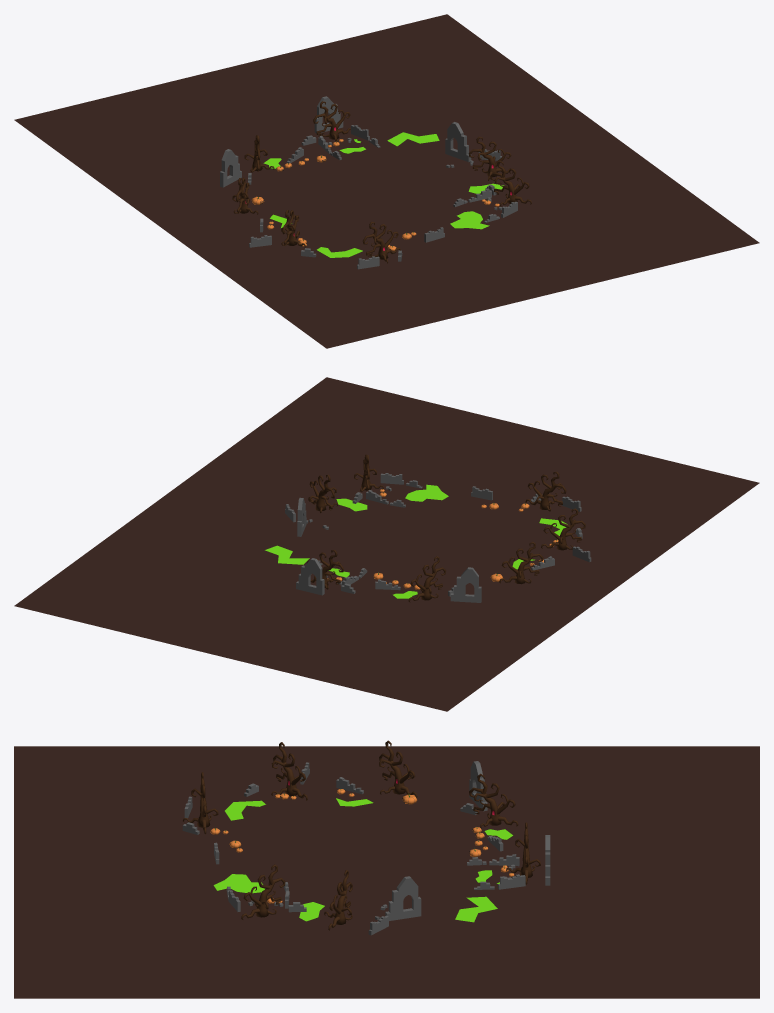
The model's file is map3.fbx.
3 renders of one model, top to bottom at view 1: azimuth 30°, elevation 25°; view 2: azimuth 150°, elevation 25°; view 3: azimuth 270°, elevation 25°, orthographic. The views are drawn at different scales.
Visible parts, largest first — view 1: Plane.006, Cylinder.024, Cube.518, Cylinder.022, Cylinder.020, Cylinder.023, Cube.510; view 2: Plane.006, Cube.510, Cube.504, Cylinder.023, Cylinder.021, Cylinder.025, Cylinder.013, Cylinder.022; view 3: Plane.006, Cube.518, Cylinder.013, Cylinder.021, Cylinder.024, Cylinder.025, Cylinder.022, Cylinder.023, Cylinder.020, Cube.510.
Part boxes in pixels (x1,y1,x2,y2): Plane.006: (14,14,759,348); Cylinder.024: (490,160,531,206); Cube.518: (445,122,471,162); Cylinder.022: (468,136,513,181); Cylinder.020: (313,101,350,141); Cylinder.023: (362,221,400,263); Cube.510: (220,149,241,187); Plane.006: (14,377,759,711); Cube.510: (450,567,481,602); Cube.504: (296,558,324,595); Cylinder.023: (525,471,566,511); Cylinder.021: (499,542,543,584); Cylinder.025: (541,508,585,550); Cylinder.013: (408,556,445,602); Cylinder.022: (308,474,337,513); Plane.006: (14,746,759,998); Cube.518: (385,876,421,920); Cylinder.013: (469,773,518,828); Cylinder.021: (379,740,417,797); Cylinder.024: (241,864,285,919); Cylinder.025: (271,742,307,800); Cylinder.022: (324,870,352,930); Cylinder.023: (183,772,218,834); Cylinder.020: (506,822,540,884); Cube.510: (469,761,487,811).
Size of the model in its own units: 12313 by 1065 by 15389.
